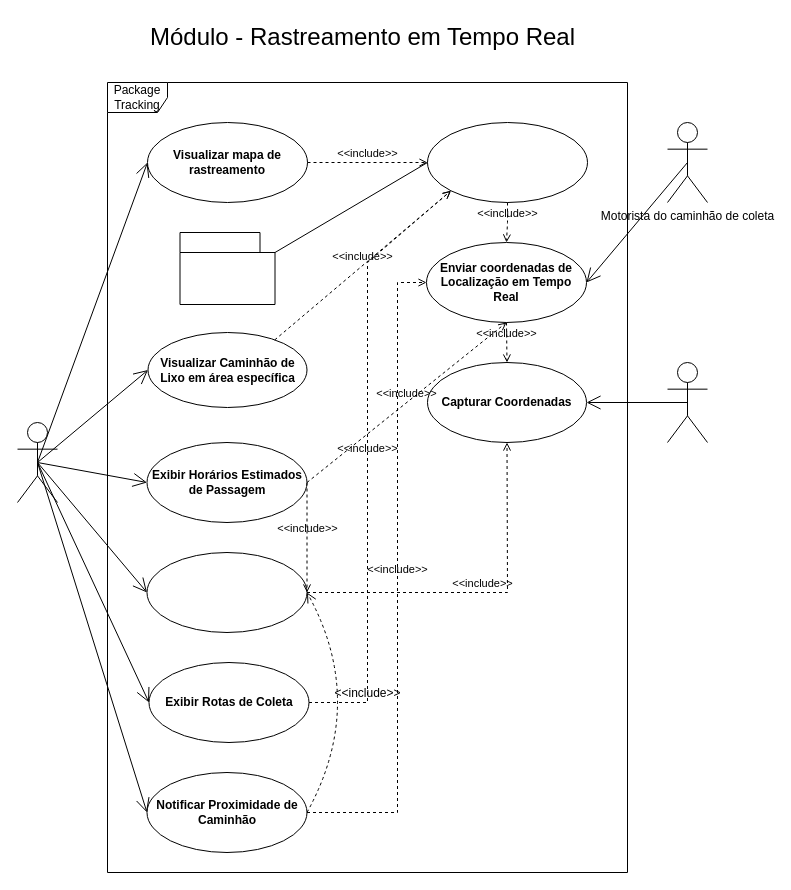
Image size: 791x890. Some labels were removed from this diagram. Each missing label, with the centre of its shape:
"<<Library>> Leaflet.js" goes at point (227, 268).
"Api de Geolocalização do HTML 5" goes at point (687, 402).
"Ativar localização Atual" goes at point (226, 592).
"Renderizar Mapa" goes at point (507, 162).
"Usuário" goes at point (37, 462).
